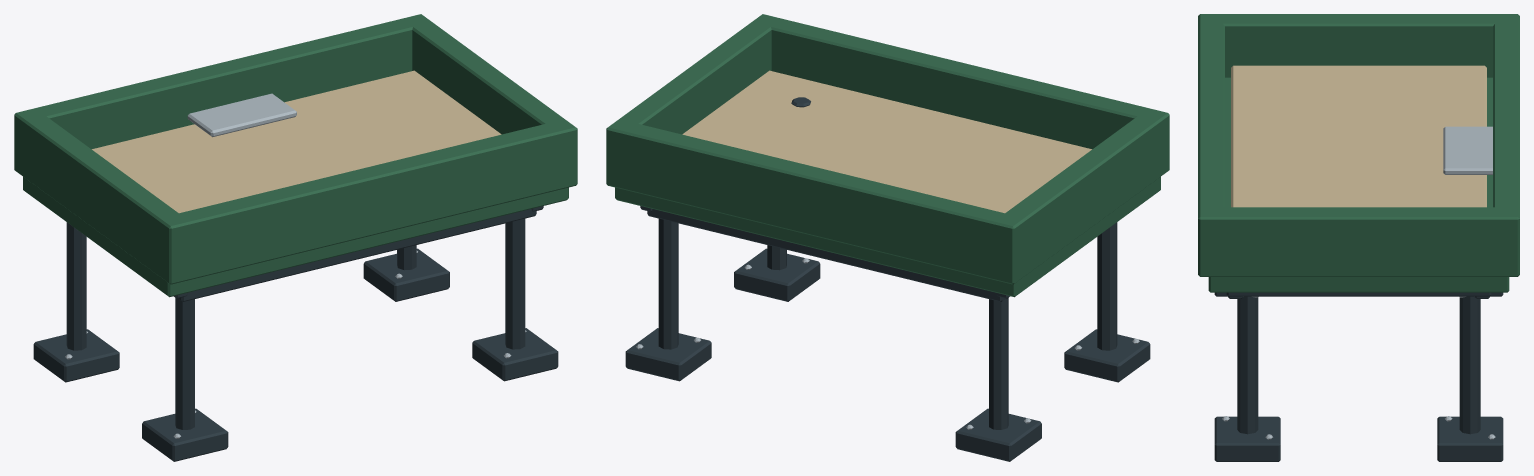
Rendered from b09_accessible_sand_table.glb.
3 views of the same model, side by side, from view 1: azimuth 30°, elevation 25°; view 2: azimuth 150°, elevation 25°; view 3: azimuth 270°, elevation 25° (orthographic). The views are drawn at different scales.
Visible parts, largest first — view 1: b09_accessible_sand_table; view 2: b09_accessible_sand_table; view 3: b09_accessible_sand_table.
Boxes of the visible parts, box(x1,y1,x2,y2) form: b09_accessible_sand_table: box(14, 14, 577, 461); b09_accessible_sand_table: box(606, 14, 1169, 461); b09_accessible_sand_table: box(1198, 14, 1519, 461).
Bounding box in the file's own units: 1.61 × 0.92 × 1.07.
